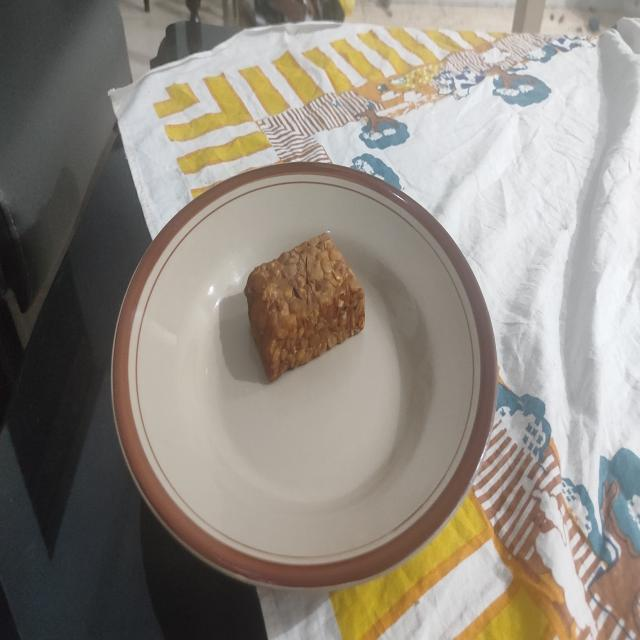tempe_goreng: (245, 233, 365, 381)
